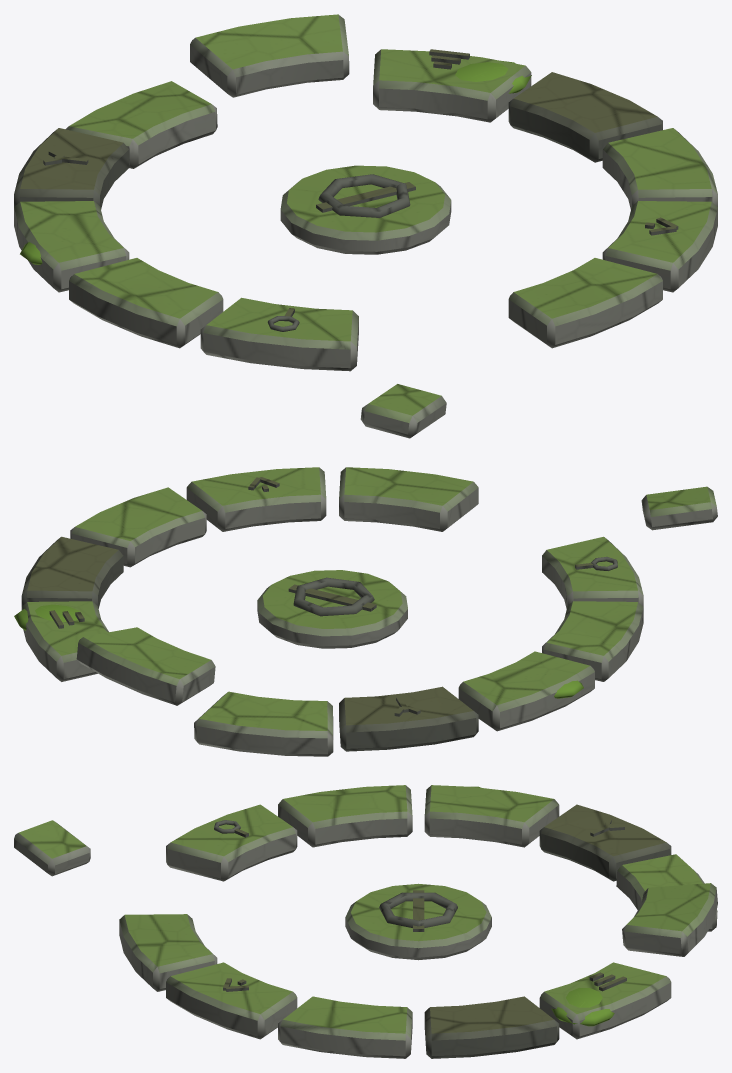
File: stone_marker_ring.glb
3 renders of one model, top to bottom at view 1: azimuth 30°, elevation 25°; view 2: azimuth 150°, elevation 25°; view 3: azimuth 270°, elevation 25°, orthographic. The views are drawn at different scales.
Visible parts, largest first — view 1: stone_marker_ring; view 2: stone_marker_ring; view 3: stone_marker_ring.
Boxes of the visible parts, left/top/right/bottom form: stone_marker_ring: left=14, top=14, right=717, bottom=438; stone_marker_ring: left=14, top=467, right=717, bottom=756; stone_marker_ring: left=14, top=785, right=717, bottom=1058.
Size of the model in its own units: 3.46 by 0.3934 by 4.04.
Materials: 3 (3 with a texture image).
